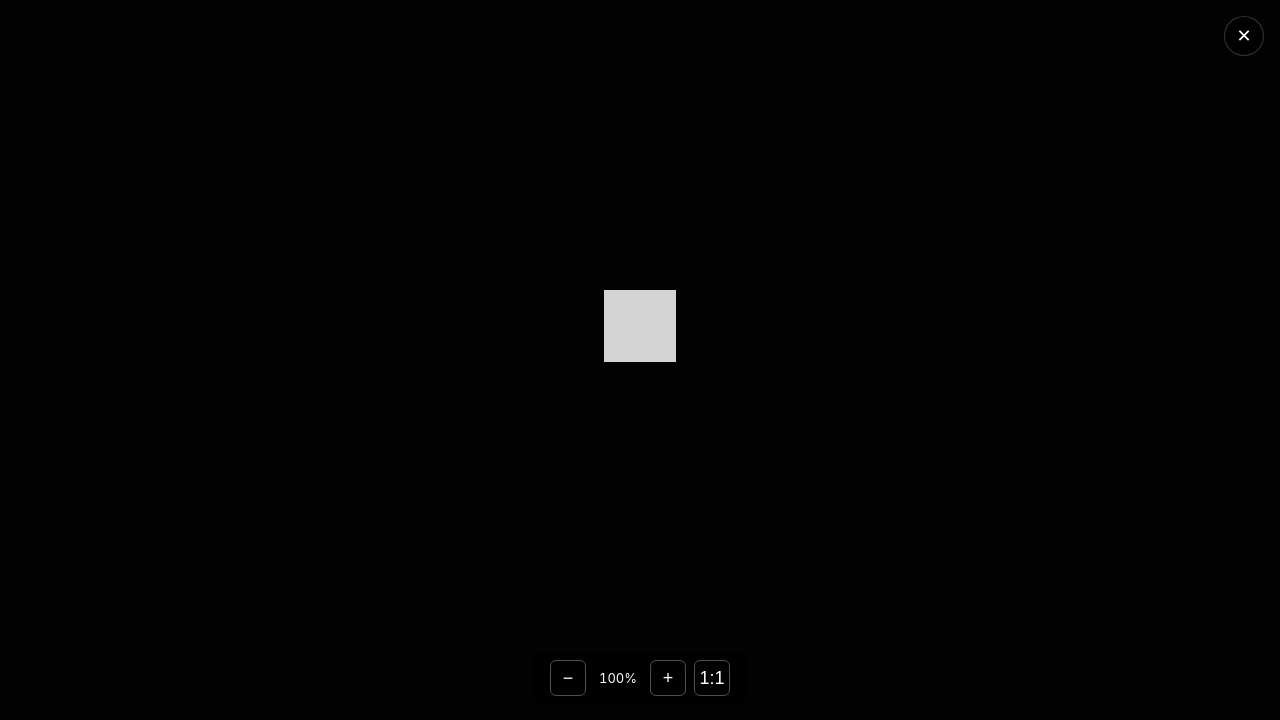
Scenario: ImageViewer › zooms in when + button clicked
Step 1. Click the button named "확대" → (668, 678), box [650, 660, 686, 696]
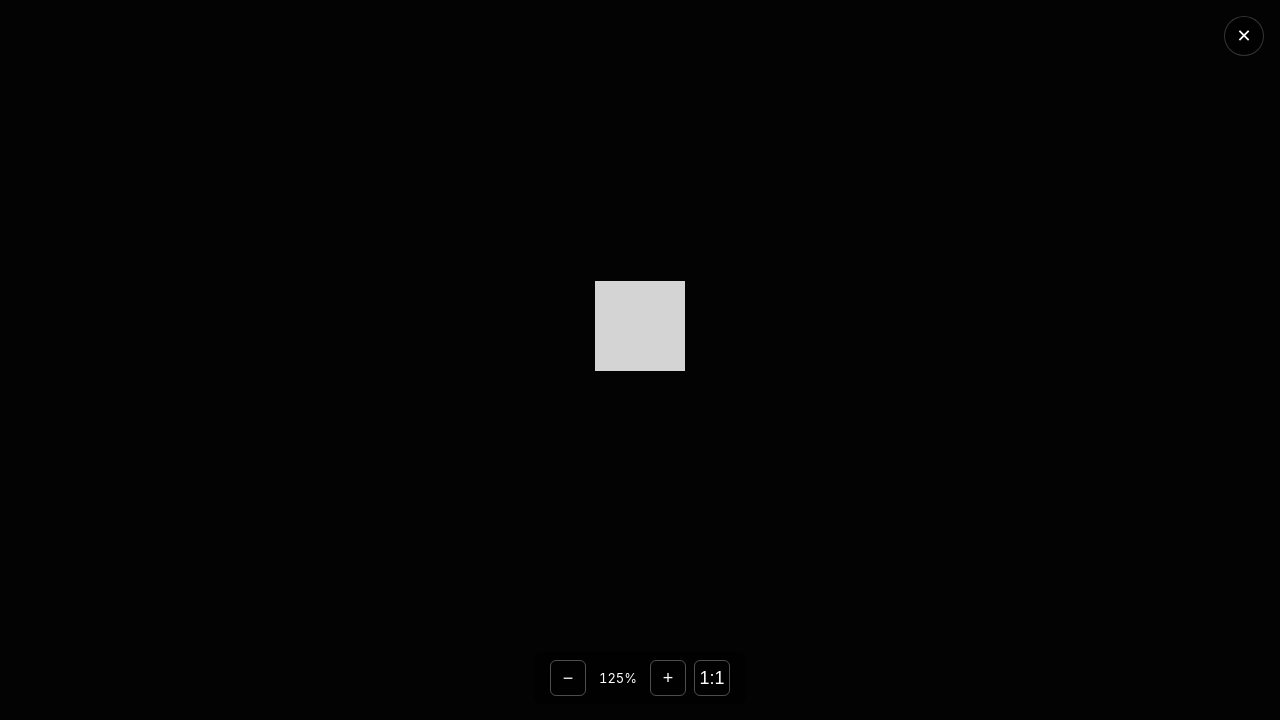
Expected: the text "125%" is shown, [599, 670, 637, 686]
